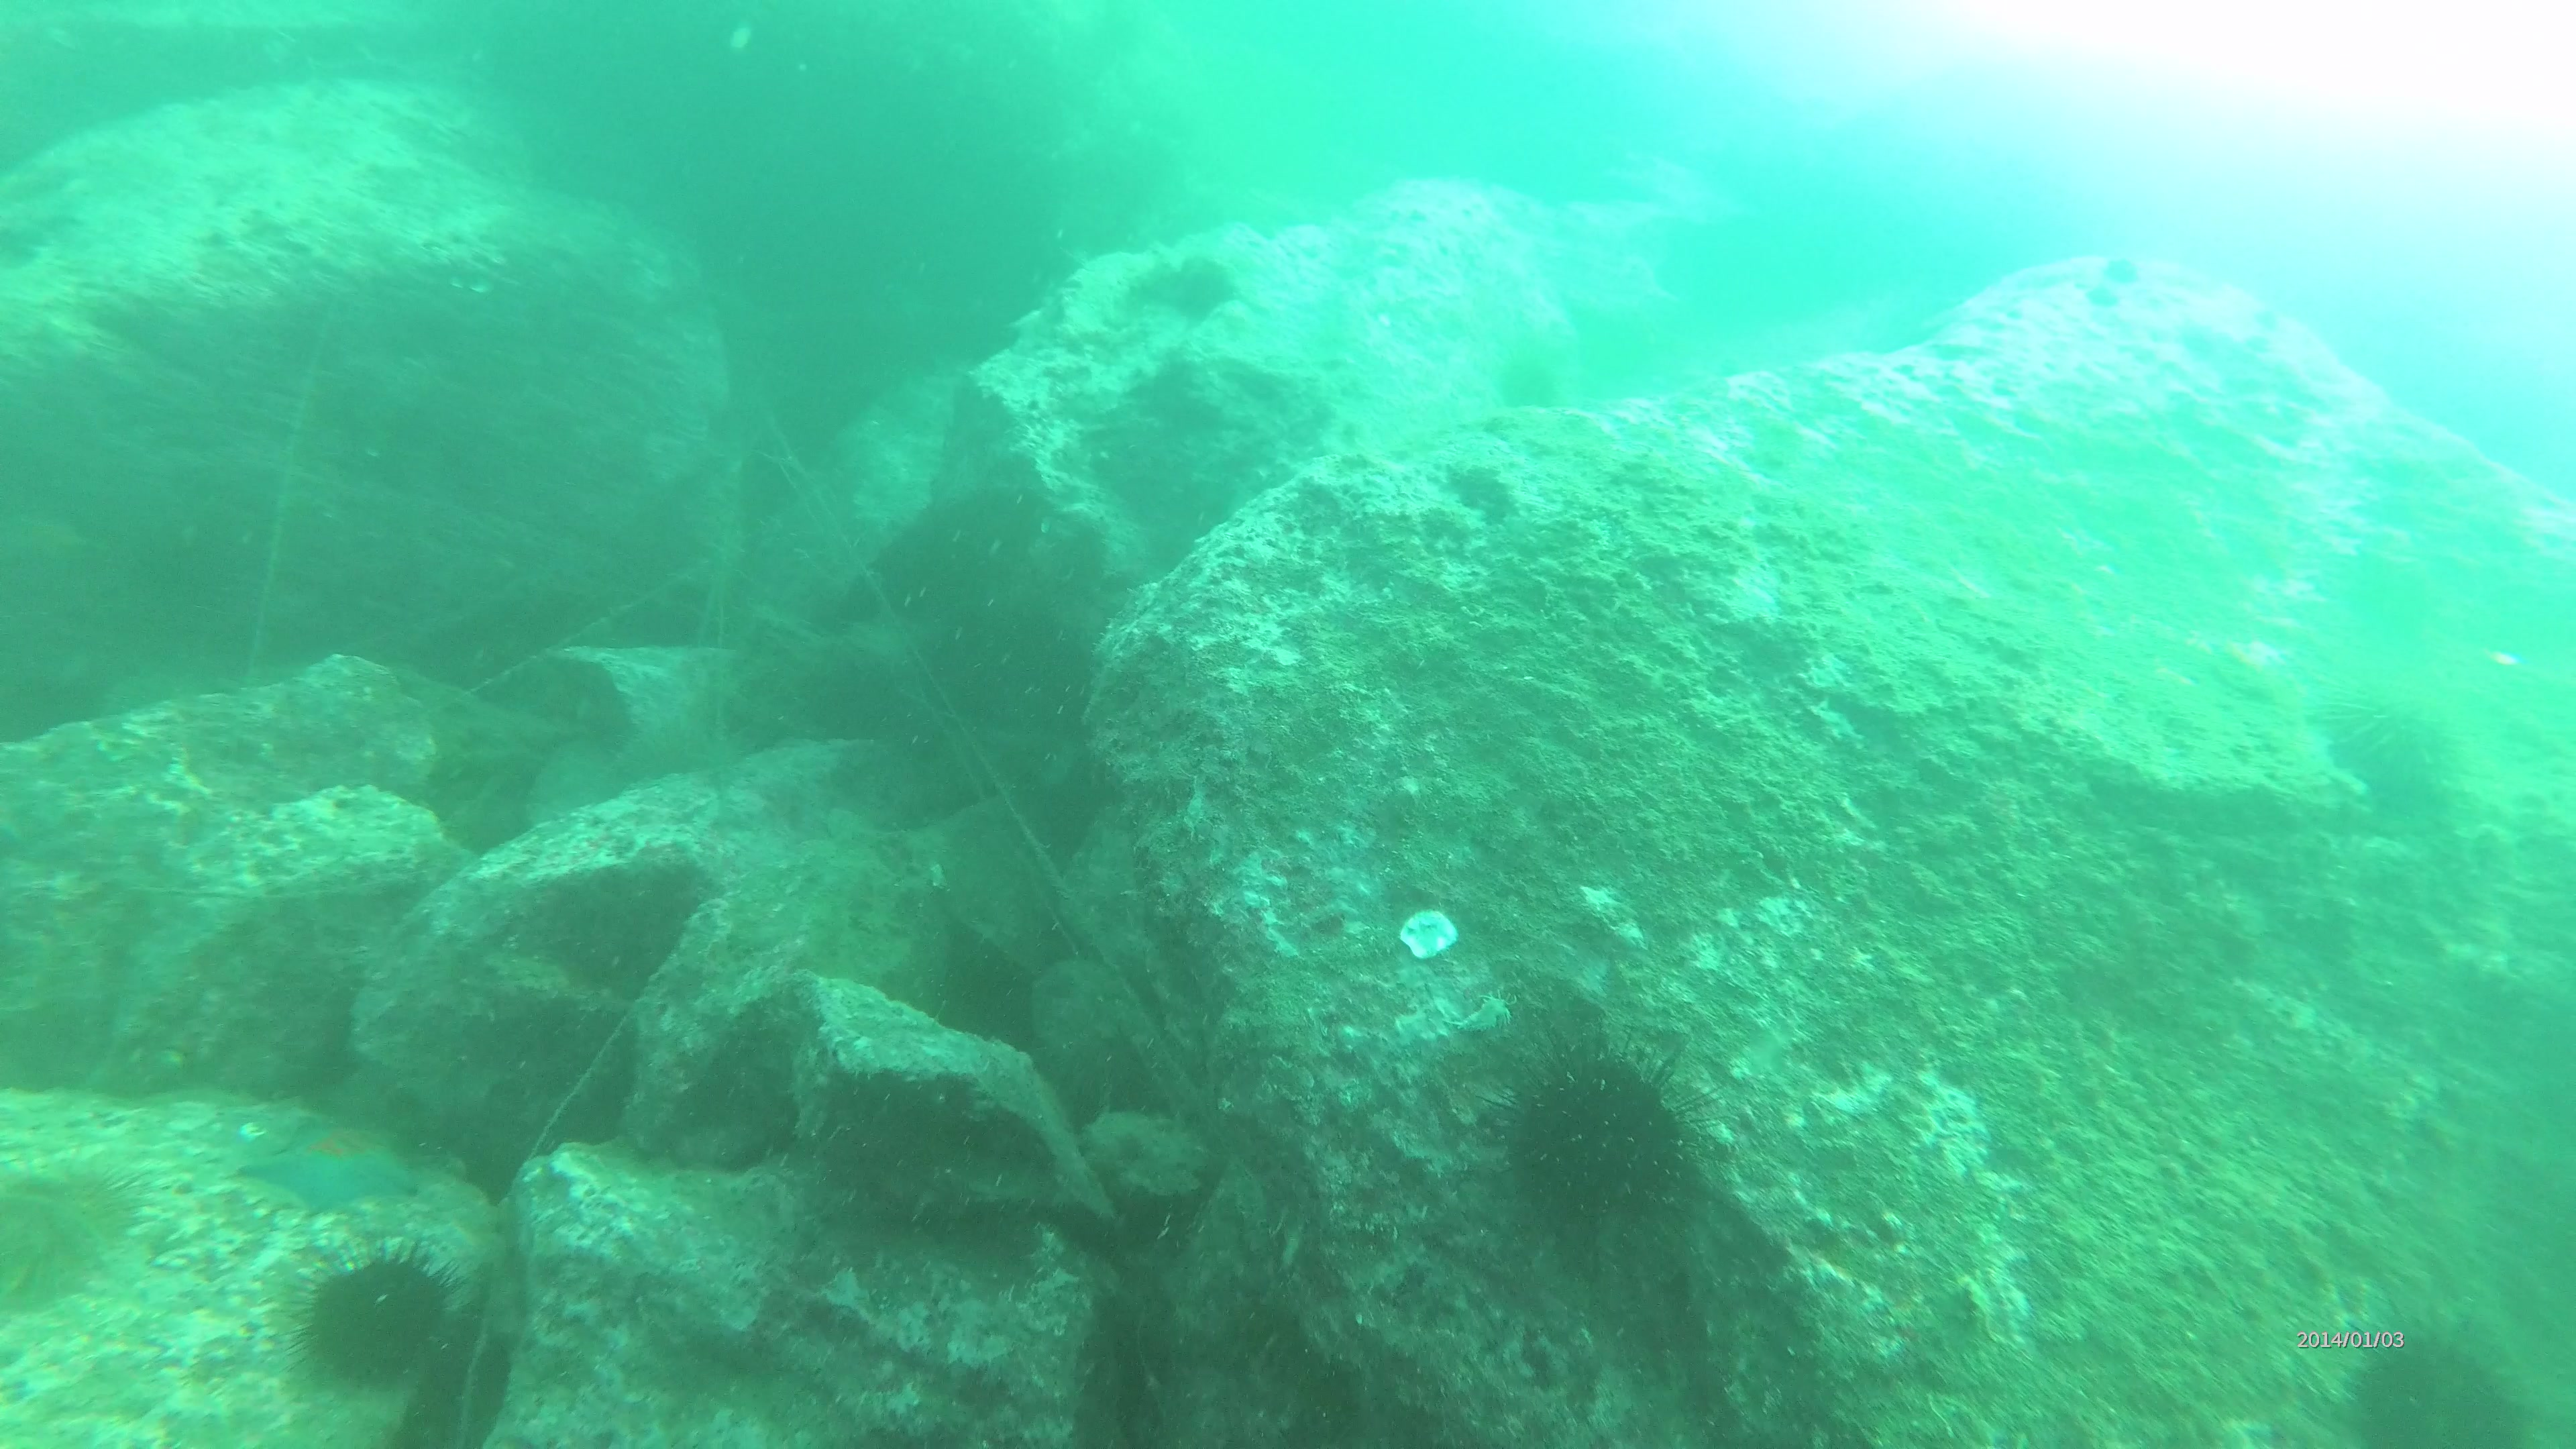echinus: (1468, 1008, 1718, 1235), (283, 1240, 469, 1398), (2339, 1302, 2526, 1449), (0, 1154, 133, 1302), (2316, 665, 2473, 778)
starfish: (241, 1104, 425, 1231)
